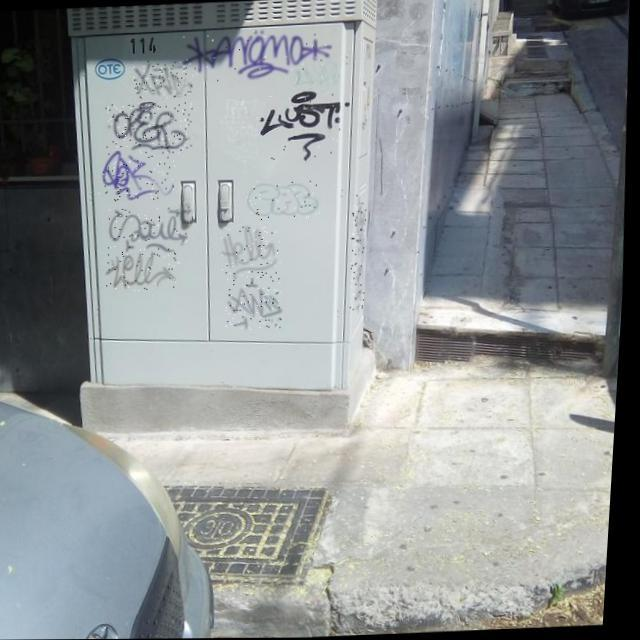-: (180, 27, 334, 82), (257, 90, 344, 163), (103, 100, 196, 156), (107, 206, 197, 256), (98, 148, 180, 202), (220, 223, 286, 280), (227, 277, 290, 331), (248, 179, 324, 221), (107, 251, 184, 292), (132, 59, 198, 99), (350, 195, 372, 311)
